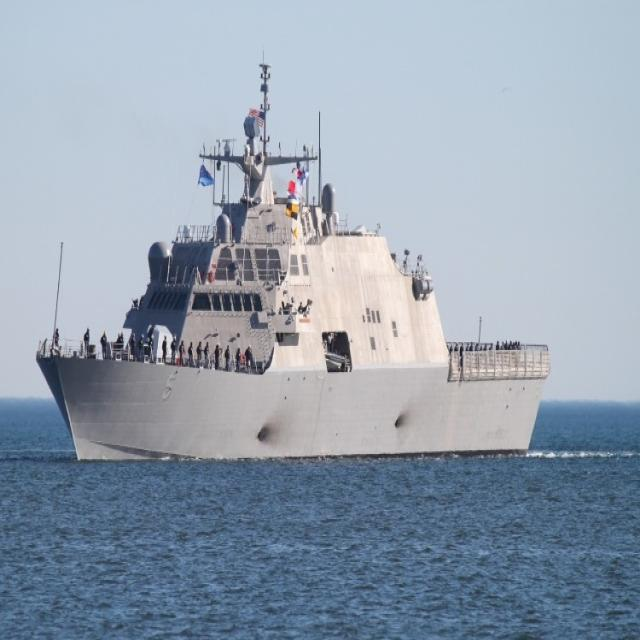navalvessels: (34, 43, 547, 455)
